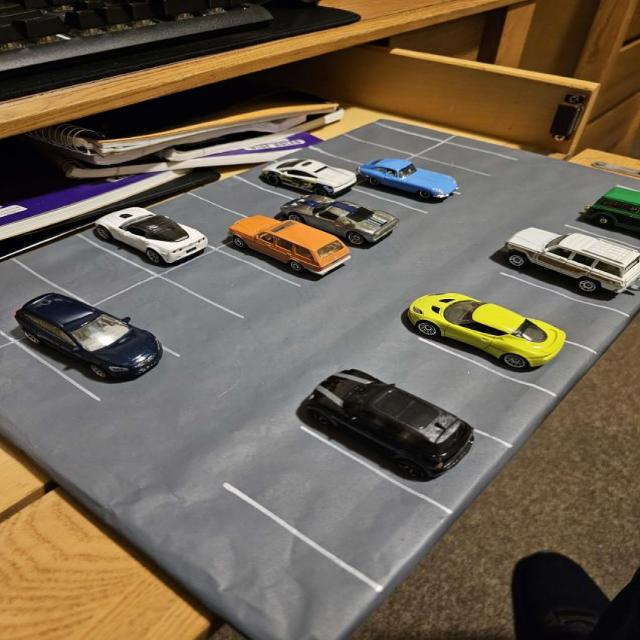Empty: (221, 425, 458, 595), (361, 336, 563, 450), (464, 270, 632, 358), (90, 275, 250, 359), (151, 247, 306, 321), (11, 233, 162, 307), (144, 190, 269, 250), (186, 174, 304, 225), (308, 134, 424, 172), (414, 141, 518, 178), (341, 121, 448, 156)
Taken: (296, 376, 513, 515), (415, 301, 597, 400), (9, 306, 184, 405), (496, 242, 640, 315), (76, 210, 220, 277), (212, 224, 355, 288), (268, 198, 395, 255), (233, 160, 360, 206), (345, 164, 468, 211), (560, 193, 640, 247)
